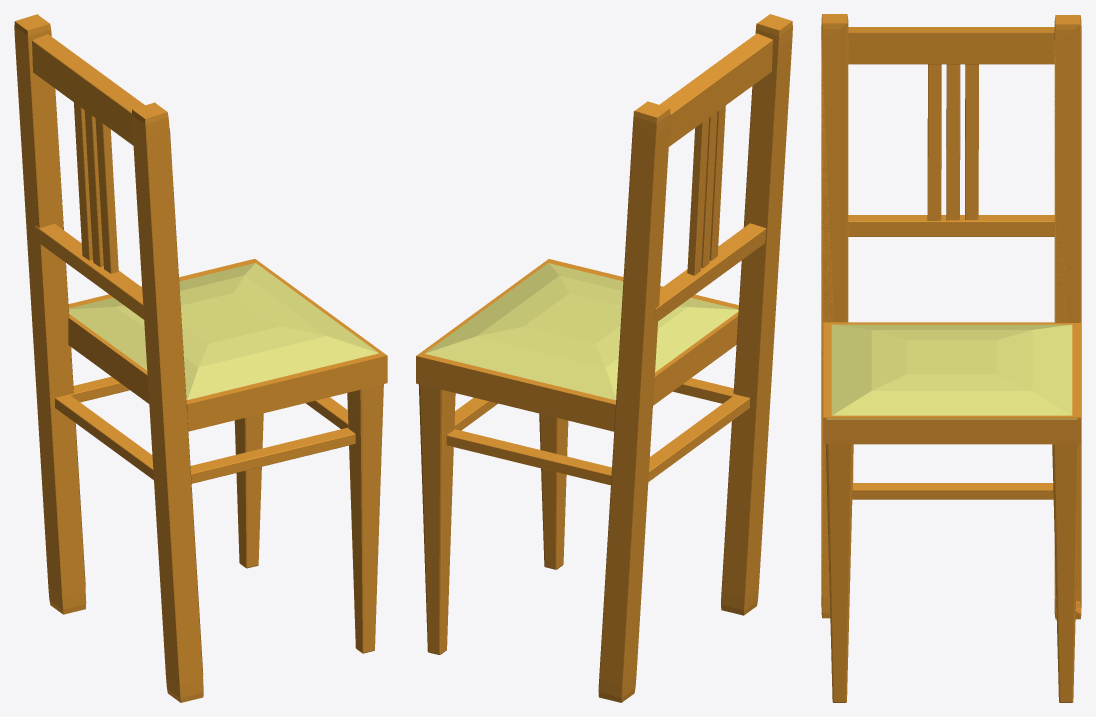
File: СТУЛ ЧБбббб.fbx
The picture shows the model from 3 angles, left to right: view 1: azimuth 30°, elevation 25°; view 2: azimuth 150°, elevation 25°; view 3: azimuth 270°, elevation 25°; orthographic projection. The views are drawn at different scales.
Visible parts, largest first — view 1: Куб.001, Куб, Плоскость.007, Плоскость.001, Плоскость, Плоскость.002, Плоскость.005, Плоскость.006, Плоскость.004; view 2: Куб, Куб.001, Плоскость.007, Плоскость.001, Плоскость, Плоскость.002, Плоскость.006, Плоскость.005, Плоскость.004; view 3: Плоскость.007, Плоскость.001, Куб.001, Плоскость, Куб, Плоскость.006, Плоскость.005, Плоскость.004, Плоскость.002.
Part boxes in pixels (x1,y1,x2,y2): Куб.001: (132, 102, 203, 702); Куб: (14, 14, 86, 614); Плоскость.007: (68, 263, 378, 399); Плоскость.001: (234, 384, 383, 653); Плоскость: (68, 259, 387, 431); Плоскость.002: (55, 376, 355, 483); Плоскость.005: (74, 102, 118, 273); Плоскость.006: (32, 34, 144, 145); Плоскость.004: (35, 223, 143, 319); Куб: (598, 101, 670, 702); Куб.001: (721, 14, 792, 615); Плоскость.007: (425, 263, 738, 400); Плоскость.001: (418, 384, 568, 654); Плоскость: (416, 259, 738, 431); Плоскость.002: (446, 378, 749, 485); Плоскость.006: (659, 33, 772, 146); Плоскость.005: (687, 105, 725, 275); Плоскость.004: (654, 223, 766, 323); Плоскость.007: (826, 324, 1077, 419); Плоскость.001: (825, 444, 1079, 702); Куб.001: (821, 14, 848, 618); Плоскость: (823, 322, 1080, 444); Куб: (1054, 15, 1081, 619); Плоскость.006: (848, 27, 1054, 64); Плоскость.005: (927, 64, 978, 220); Плоскость.004: (848, 215, 1054, 236); Плоскость.002: (852, 467, 1053, 499).
Bounding box in the file's own units: 296 × 691 × 282.
